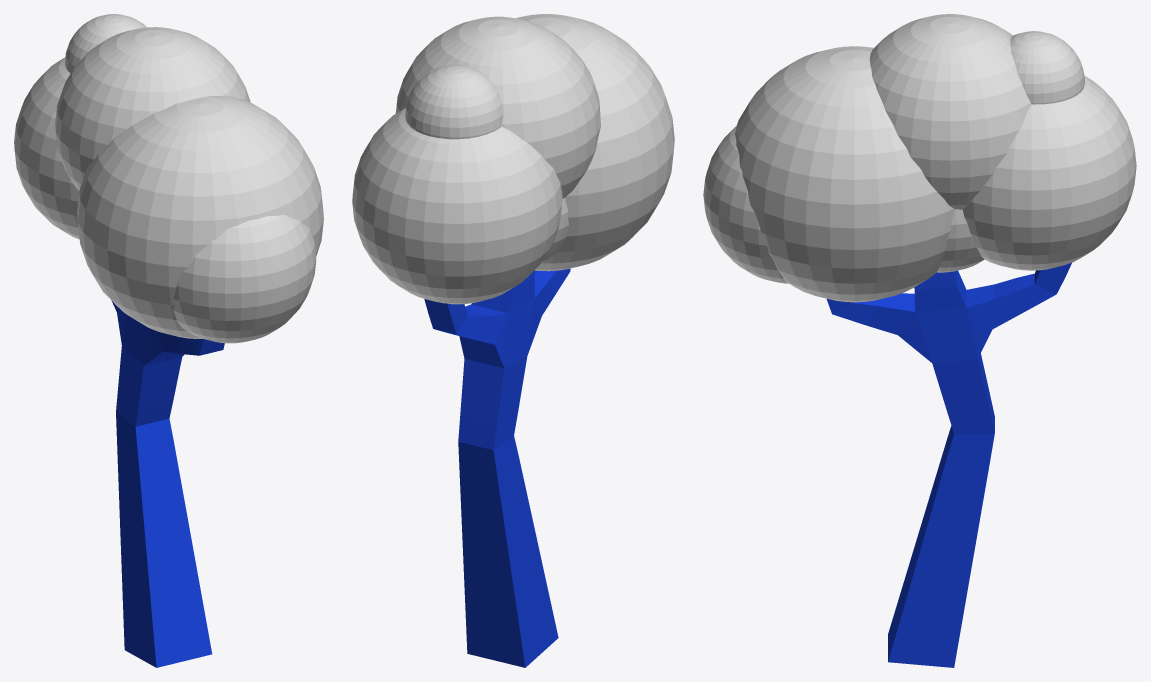
The model's file is CloudTree.fbx.
3 renders of one model, left to right at view 1: azimuth 30°, elevation 25°; view 2: azimuth 150°, elevation 25°; view 3: azimuth 270°, elevation 25°, orthographic. The views are drawn at different scales.
Parts seen in each view (by area): view 1: Cube; view 2: Cube; view 3: Cube.
Part boxes in pixels (bbox=[...]): Cube: bbox=[14, 14, 323, 667]; Cube: bbox=[352, 14, 674, 667]; Cube: bbox=[703, 14, 1136, 667].
Size of the model in its own units: 2.88 by 7.81 by 4.87.
